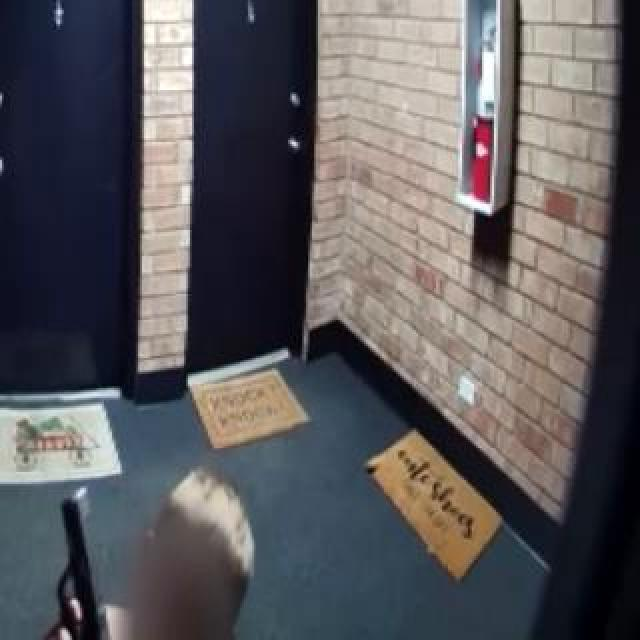Guns: (18, 465, 164, 640)
